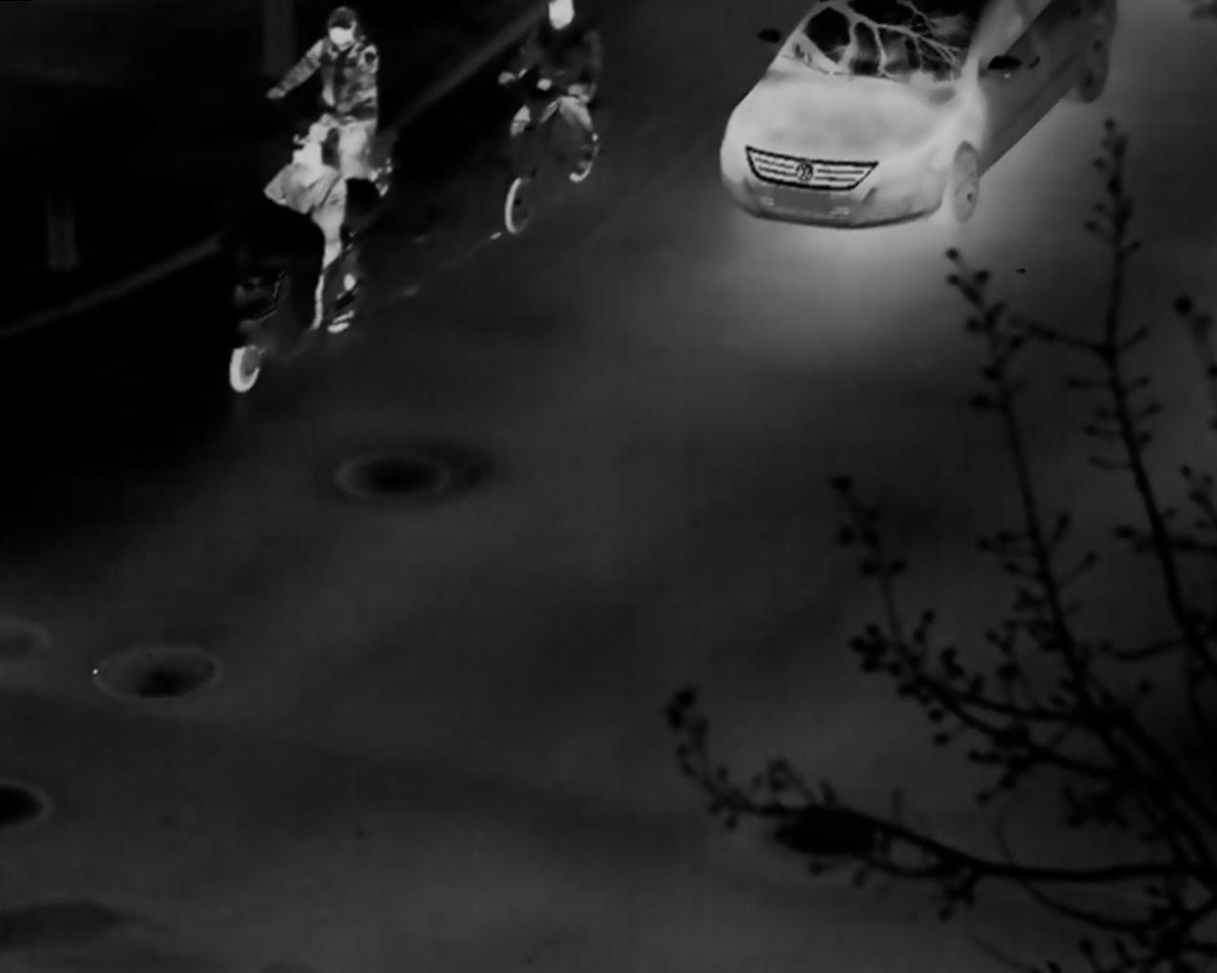person: (268, 9, 390, 197), (259, 134, 351, 329)
